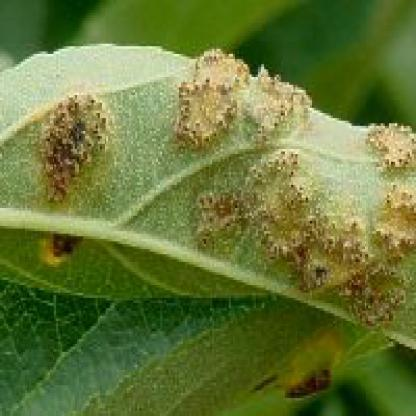Apple rust leaf: (2, 38, 414, 374)
